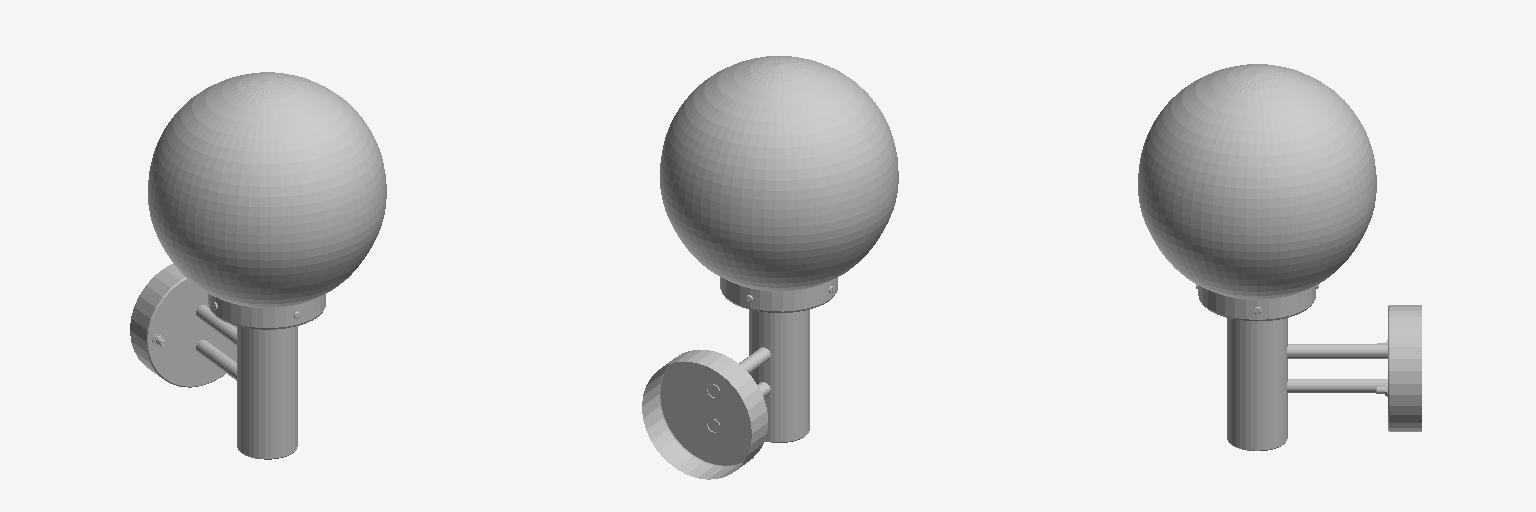
Rendered from wall_lamp.obj.
3 renders of one model, left to right at view 1: azimuth 30°, elevation 25°; view 2: azimuth 150°, elevation 25°; view 3: azimuth 270°, elevation 25°, orthographic.
Parts seen in each view (by area): view 1: sconce_02_Circle.006; view 2: sconce_02_Circle.006; view 3: sconce_02_Circle.006.
Boxes of the visible parts, <box> form: sconce_02_Circle.006: <box>130,72,386,459</box>; sconce_02_Circle.006: <box>642,56,898,479</box>; sconce_02_Circle.006: <box>1138,64,1421,450</box>.
Bounding box in the file's own units: 0.1881 × 0.3175 × 0.2237.